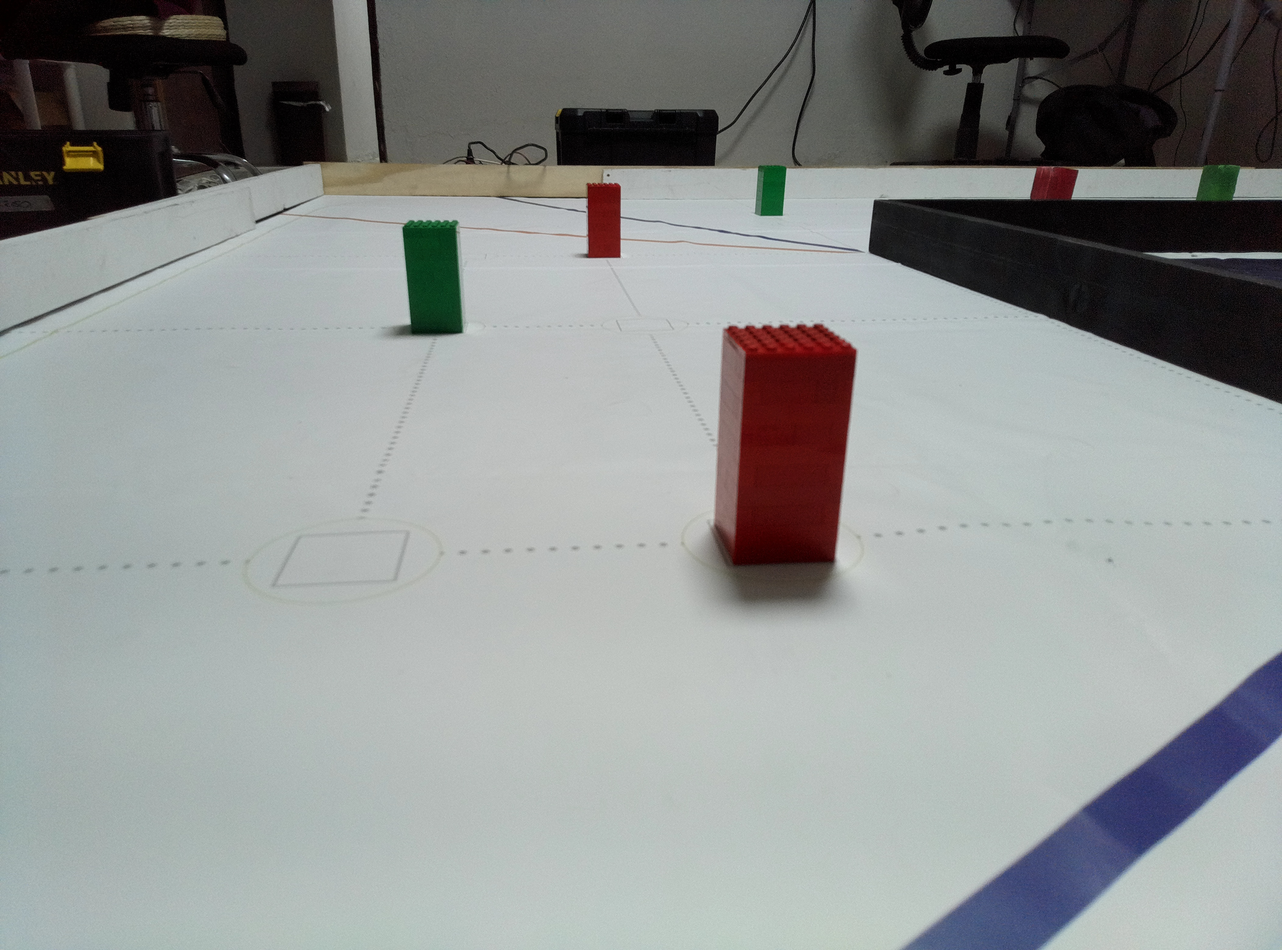greenbox: (401, 218, 468, 335), (755, 164, 787, 216), (1195, 165, 1241, 201)
redbox: (711, 323, 859, 569), (585, 181, 622, 259), (1028, 166, 1079, 199)
